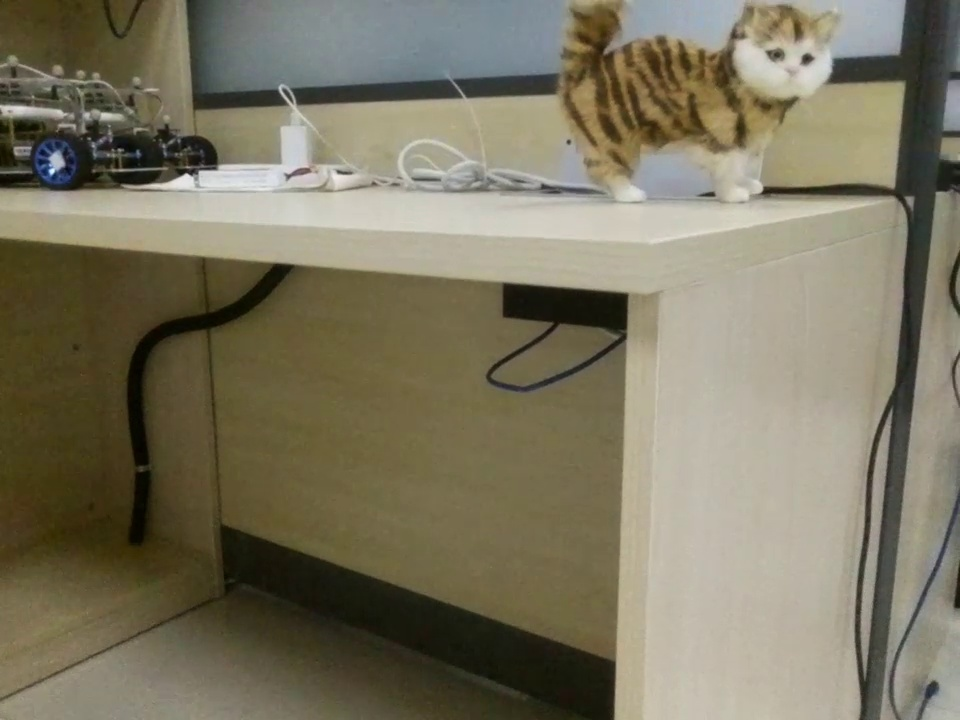cat: (550, 1, 881, 229)
